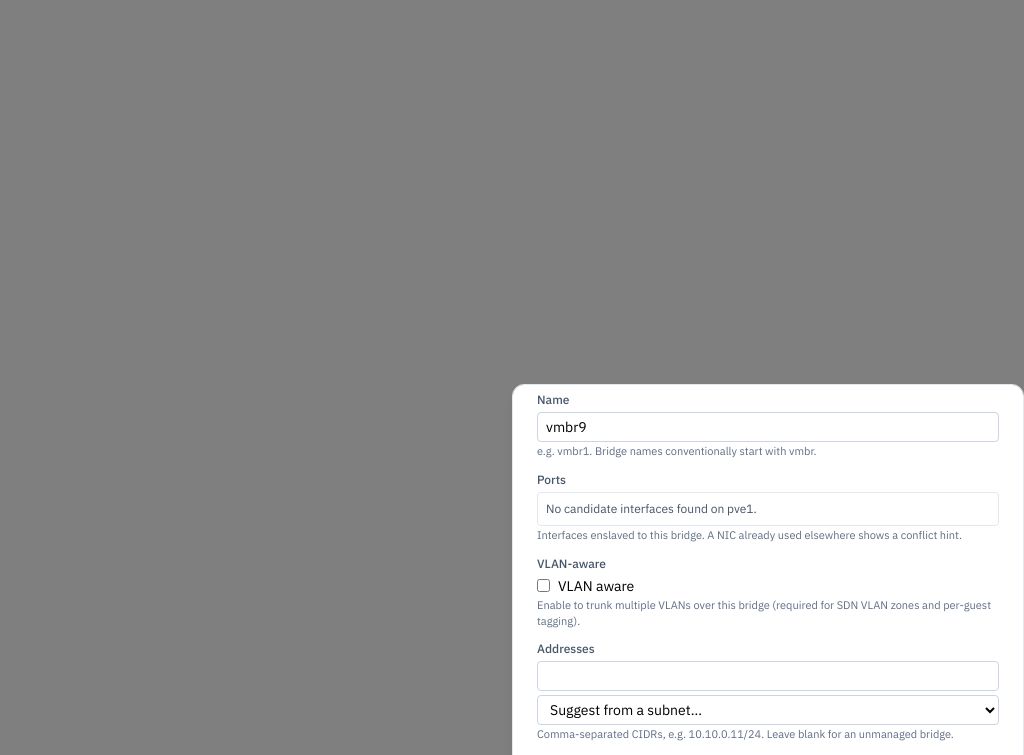
Test: BridgeEditor + NextFreePicker integration (T-405 AC4) › suggests and appends a free address from a chosen SDN subnet into the Addresses field
(page scrolled)
Select "10.50.0.0/24" in the dropdown named "Suggest address from subnet": (768,710) [537,695,999,725]
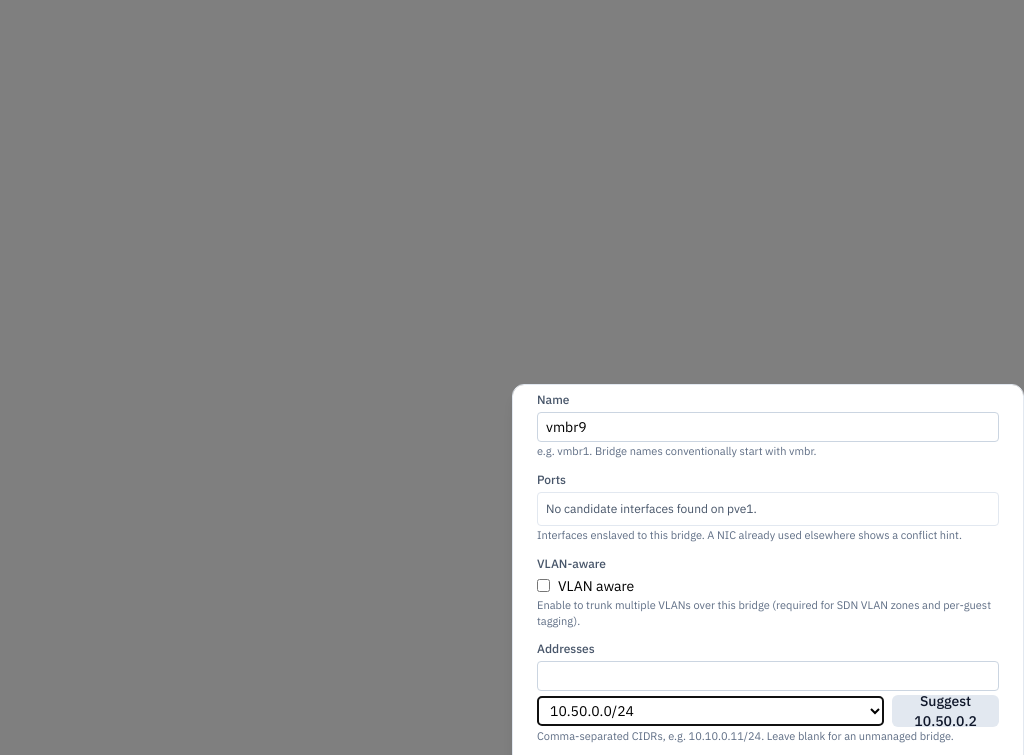
Click the button "Suggest 10.50.0.2": (946,711) [892,695,999,727]
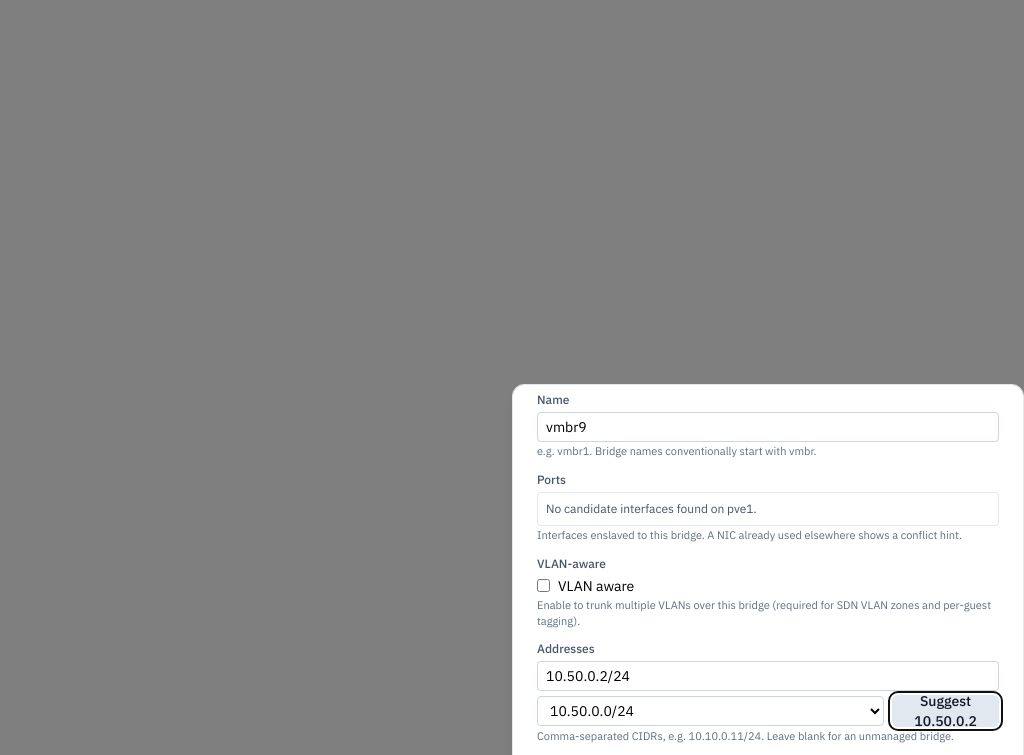
Result: the field showing "10.50.0.2/24" is shown at [537,661,999,691]
